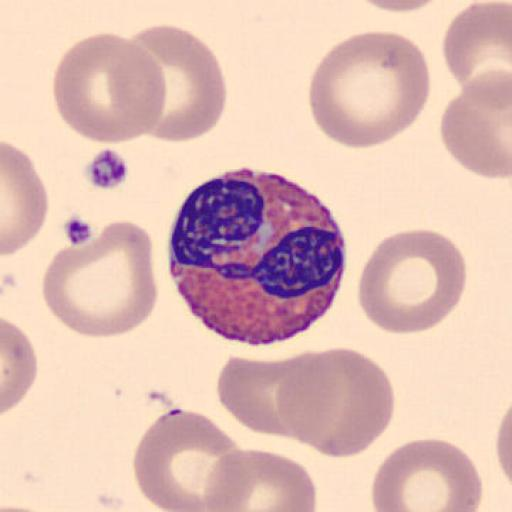Platelet: (80, 146, 134, 194)
RBC: (216, 350, 388, 454), (306, 28, 432, 150), (40, 218, 158, 338), (50, 30, 169, 145), (280, 346, 396, 460), (215, 349, 338, 452), (123, 25, 228, 143), (356, 227, 467, 336), (131, 406, 244, 512), (370, 436, 484, 512), (439, 68, 512, 180), (203, 445, 318, 512), (441, 0, 512, 97), (0, 140, 50, 256), (2, 315, 38, 416), (492, 396, 512, 510), (495, 406, 512, 488), (352, 0, 450, 14), (1, 503, 49, 512)
WBC: (166, 166, 349, 346)
